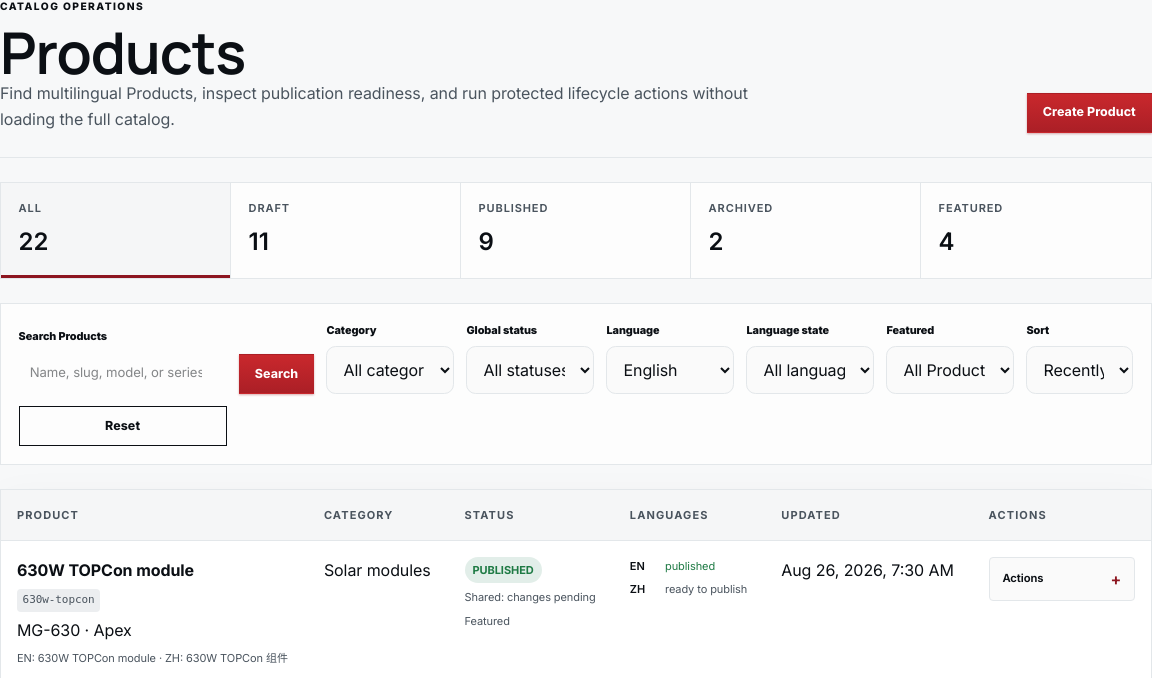
Product workspace › keeps conflict and publication-validation failures visible and recoverable
The width and height of the screenshot is (1152, 678).
Check: the text "630W TOPCon module" is shown, box [17, 557, 194, 583]
Click the button "Actions +" in the row of "630w-topcon" at x=1062, y=579, box [989, 557, 1135, 601]
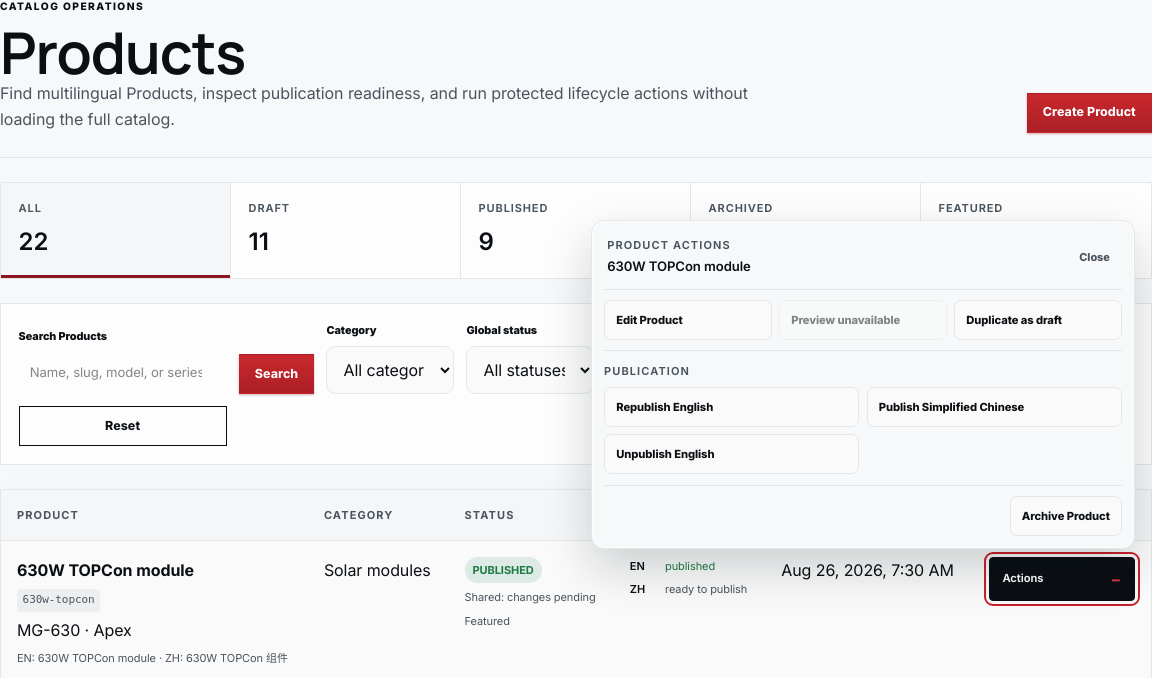
Click the button "Archive Product" at x=1066, y=516, box [1010, 496, 1122, 536]
(page scrolled)
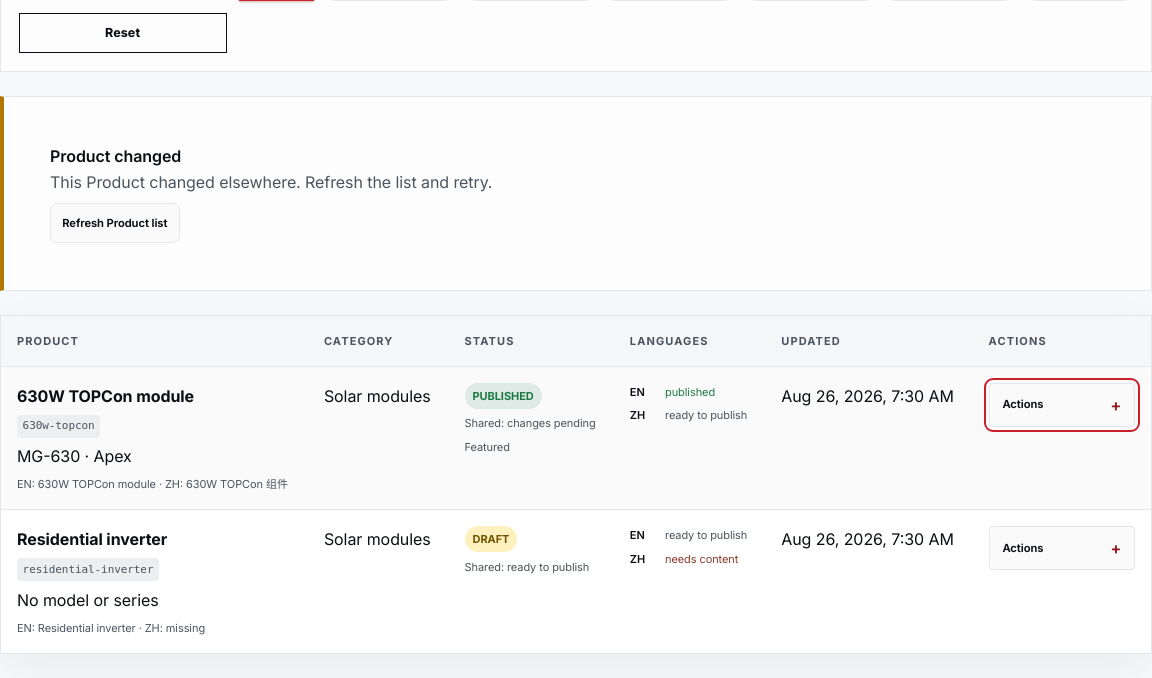
Check: the text "Product changed" is shown, box [50, 146, 181, 166]
Click the button "Actions +" in the row of "630w-topcon" at x=1062, y=405, box [989, 383, 1135, 427]
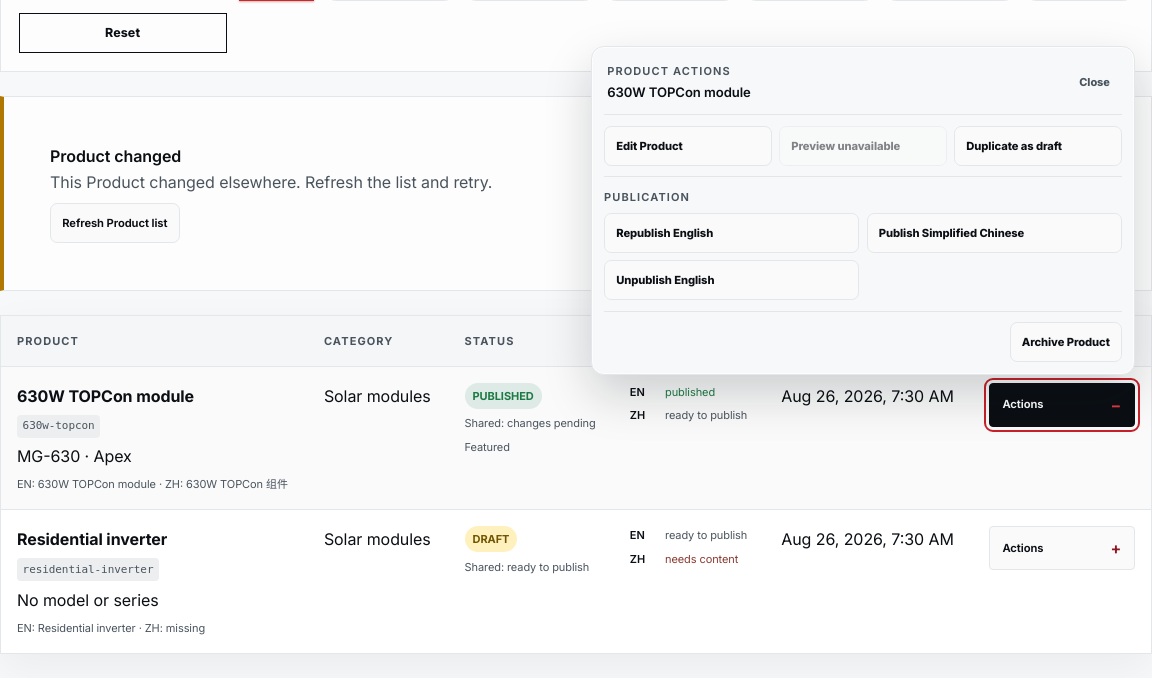
Click the button "Publish Simplified Chinese" at x=994, y=233, box [867, 213, 1122, 253]
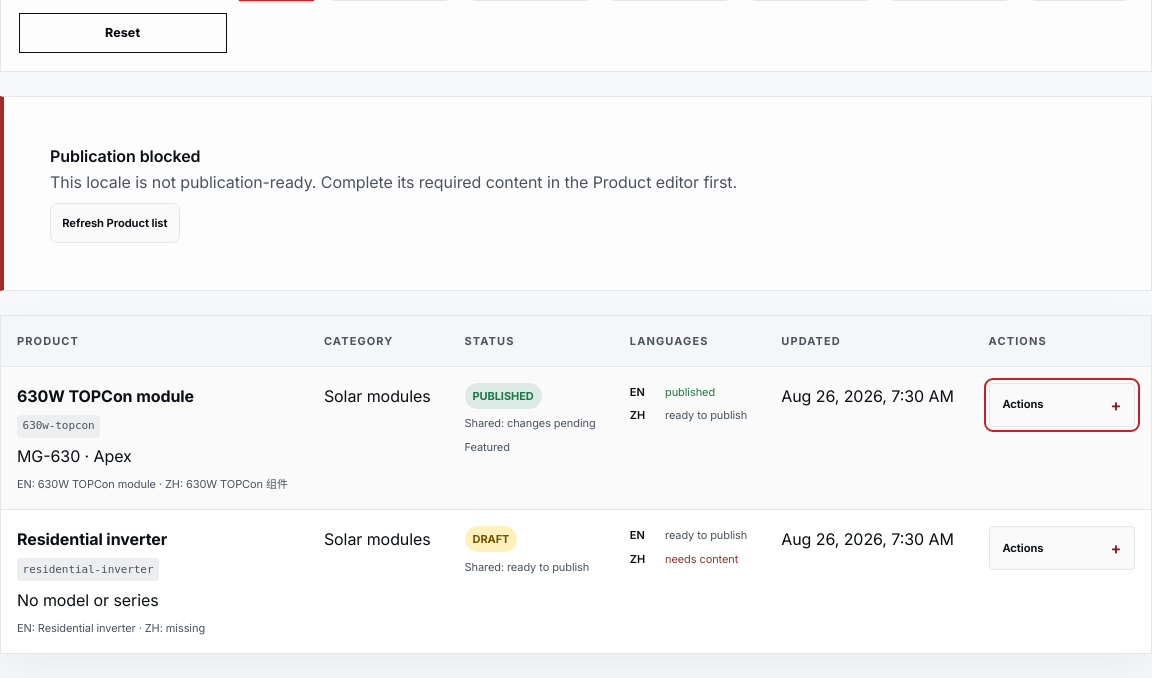
Check: the button "Refresh Product list" is shown, box [50, 204, 180, 244]
Check: the text "Publication blocked" is shown, box [50, 146, 201, 166]
